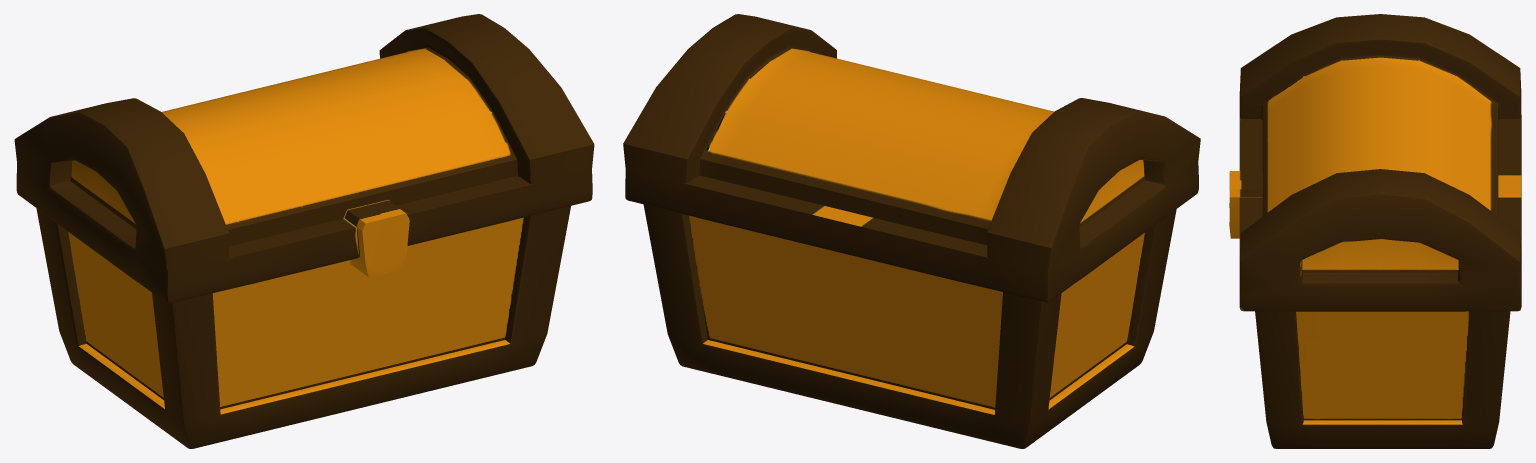
The model's file is 보물상자 0.fbx.
The picture shows the model from 3 angles, left to right: view 1: azimuth 30°, elevation 25°; view 2: azimuth 150°, elevation 25°; view 3: azimuth 270°, elevation 25°; orthographic projection. The views are drawn at different scales.
Parts seen in each view (by area): view 1: box top, bottom; view 2: box top, bottom; view 3: box top, bottom.
Boxes of the visible parts, x1=… form: box top: x1=14, y1=14, x2=594, y2=303; bottom: x1=36, y1=206, x2=570, y2=448; box top: x1=623, y1=14, x2=1200, y2=302; bottom: x1=643, y1=204, x2=1176, y2=448; box top: x1=1229, y1=14, x2=1521, y2=311; bottom: x1=1255, y1=311, x2=1510, y2=448.
Size of the model in its own units: 158 by 102 by 100.
Materials: 2 (2 with a texture image).
